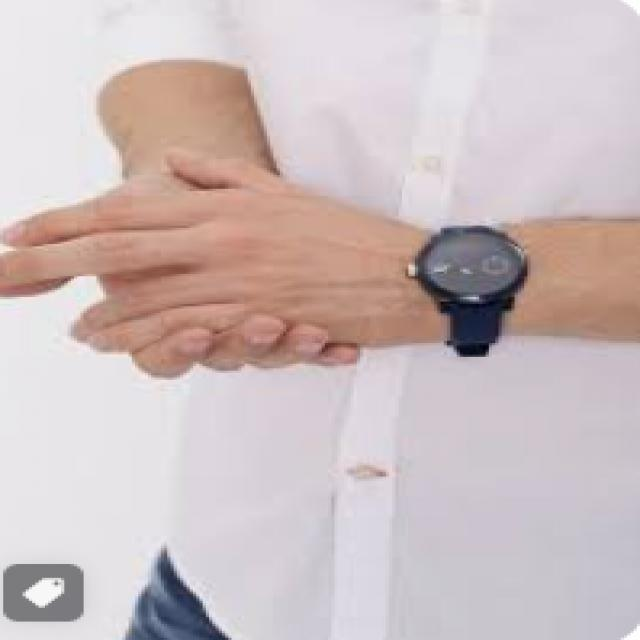Watch: (404, 213, 526, 357)
